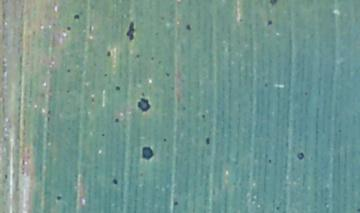tarspot: (136, 97, 152, 114), (140, 145, 155, 161), (125, 21, 136, 42), (295, 151, 305, 161), (265, 18, 274, 26), (111, 177, 119, 186), (158, 14, 167, 22), (2, 172, 10, 181), (204, 136, 211, 146), (105, 49, 112, 59), (302, 89, 309, 99), (114, 84, 122, 92), (72, 13, 80, 21), (164, 70, 171, 79), (274, 204, 281, 213), (337, 126, 344, 135), (268, 1, 278, 7), (263, 80, 269, 90), (55, 194, 62, 202), (65, 24, 72, 32), (138, 90, 146, 97), (100, 131, 107, 139), (102, 72, 110, 79), (64, 87, 72, 94), (168, 84, 175, 92), (113, 117, 120, 124), (200, 112, 207, 119), (185, 23, 191, 31), (267, 157, 273, 165), (148, 55, 156, 61), (161, 136, 167, 143), (134, 52, 141, 58), (65, 67, 72, 73), (89, 95, 95, 102), (173, 200, 178, 208), (181, 104, 186, 111), (355, 207, 360, 213), (238, 16, 242, 22)
